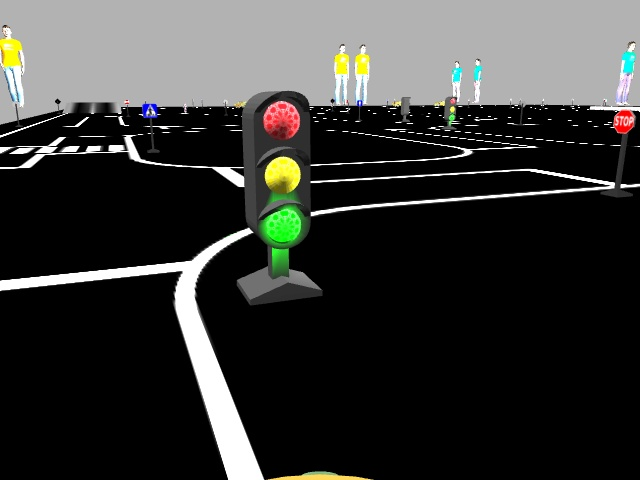Crosswalk: (143, 103, 156, 117)
Stop: (611, 104, 634, 137)
TrafficLight: (243, 89, 310, 250)
